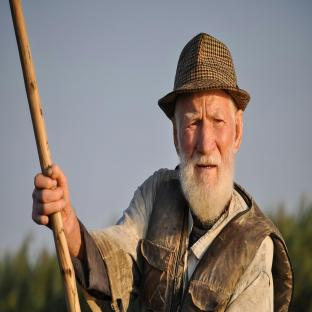Human: (32, 33, 294, 312)
